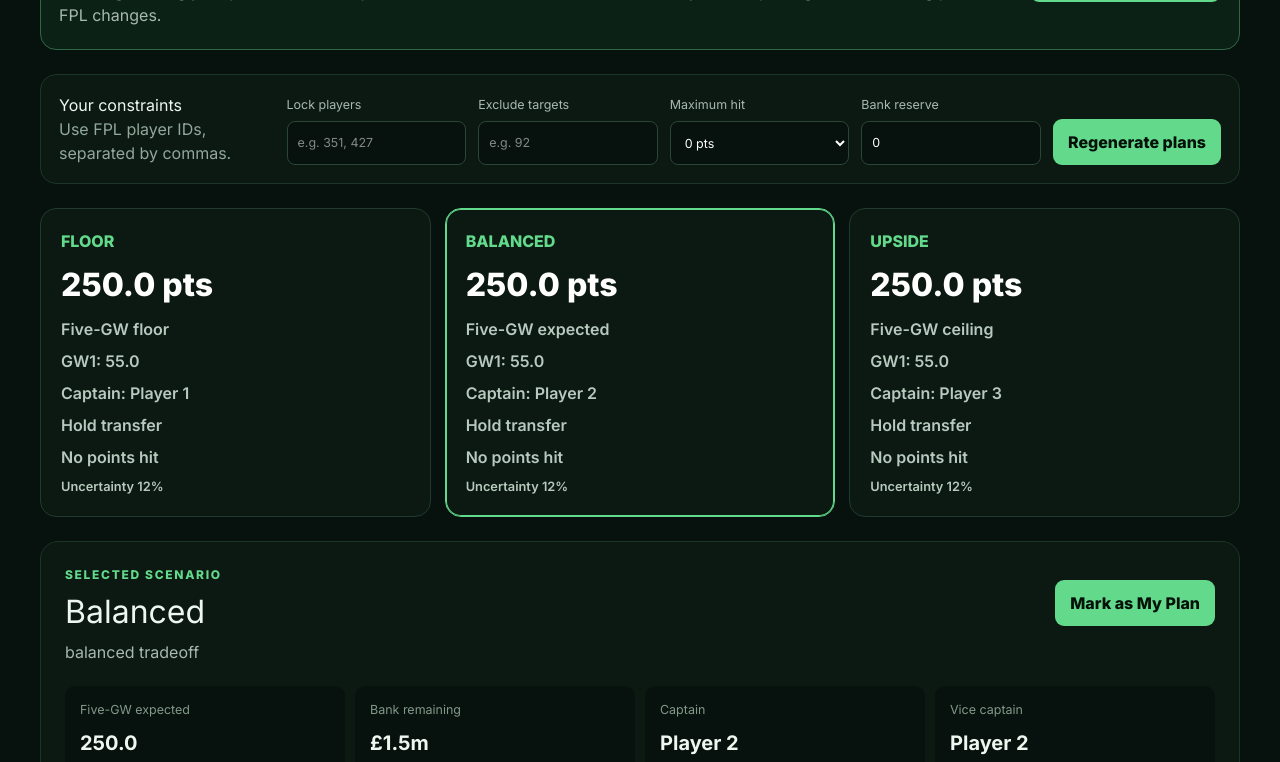
Test: PlanningWorkspace › loads and switches between complete scenarios
(page scrolled)
Click the button "Upside": (900, 241) [849,208,1240,517]
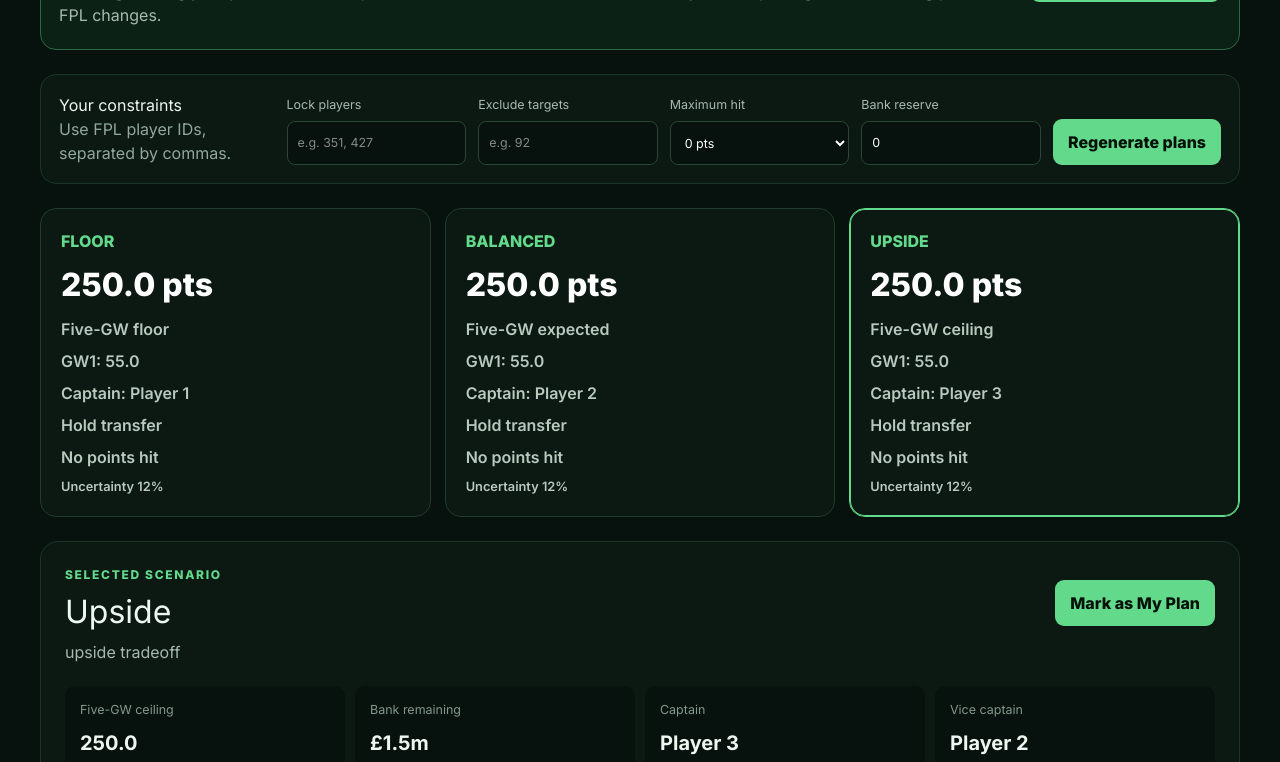
Expected: the heading "Upside" is shown, [65,592,171,631]
Expected: the text "Player 3" is shown, [660,731,739,755]
